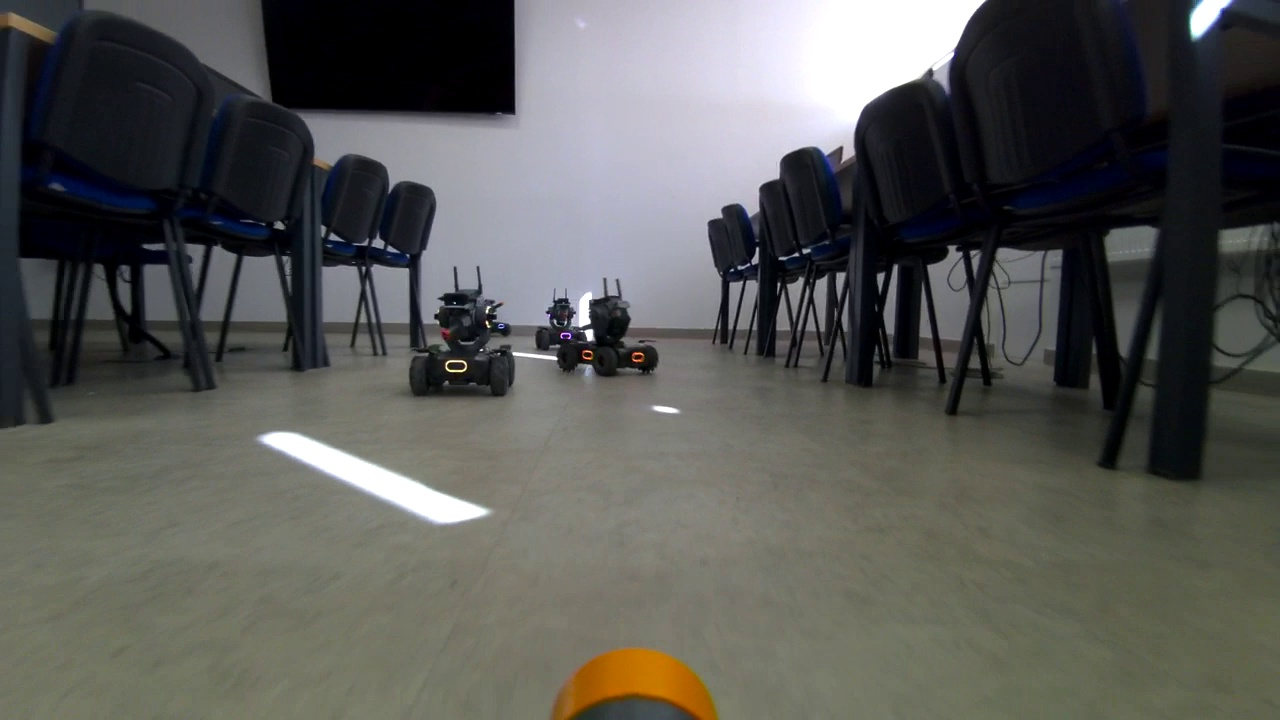robot: (407, 281, 522, 398), (561, 277, 657, 381), (535, 290, 591, 348)
